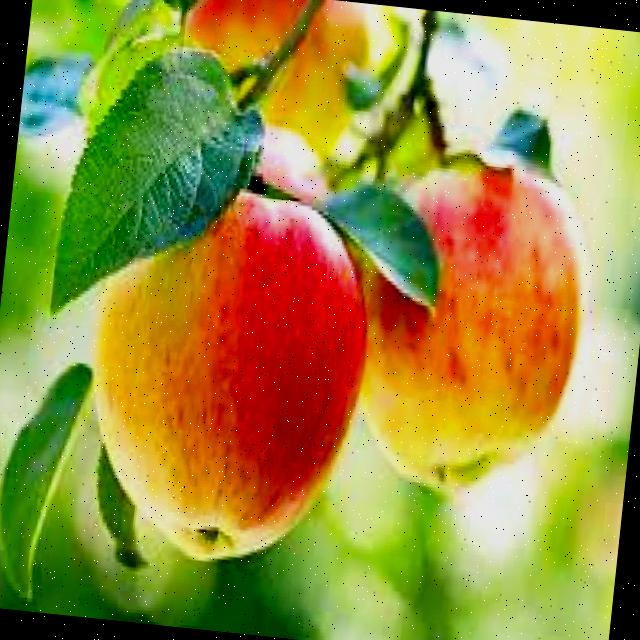apple: (33, 148, 399, 602), (309, 119, 640, 551), (147, 0, 407, 161)
